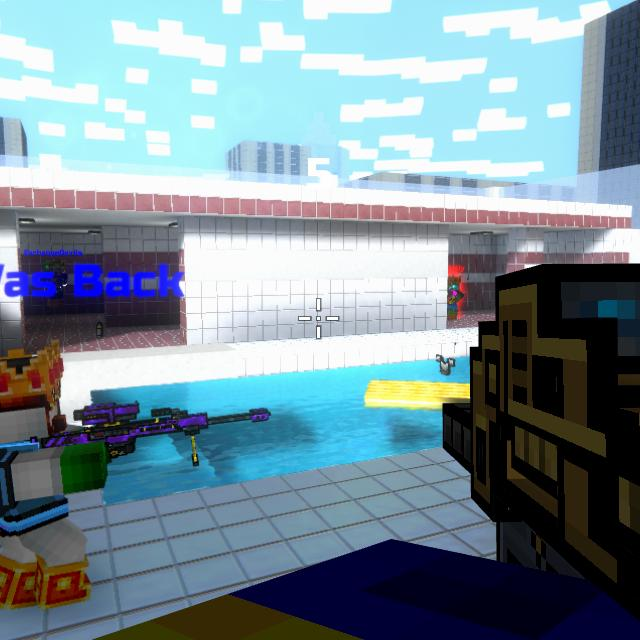Enemy: (448, 276, 465, 319)
